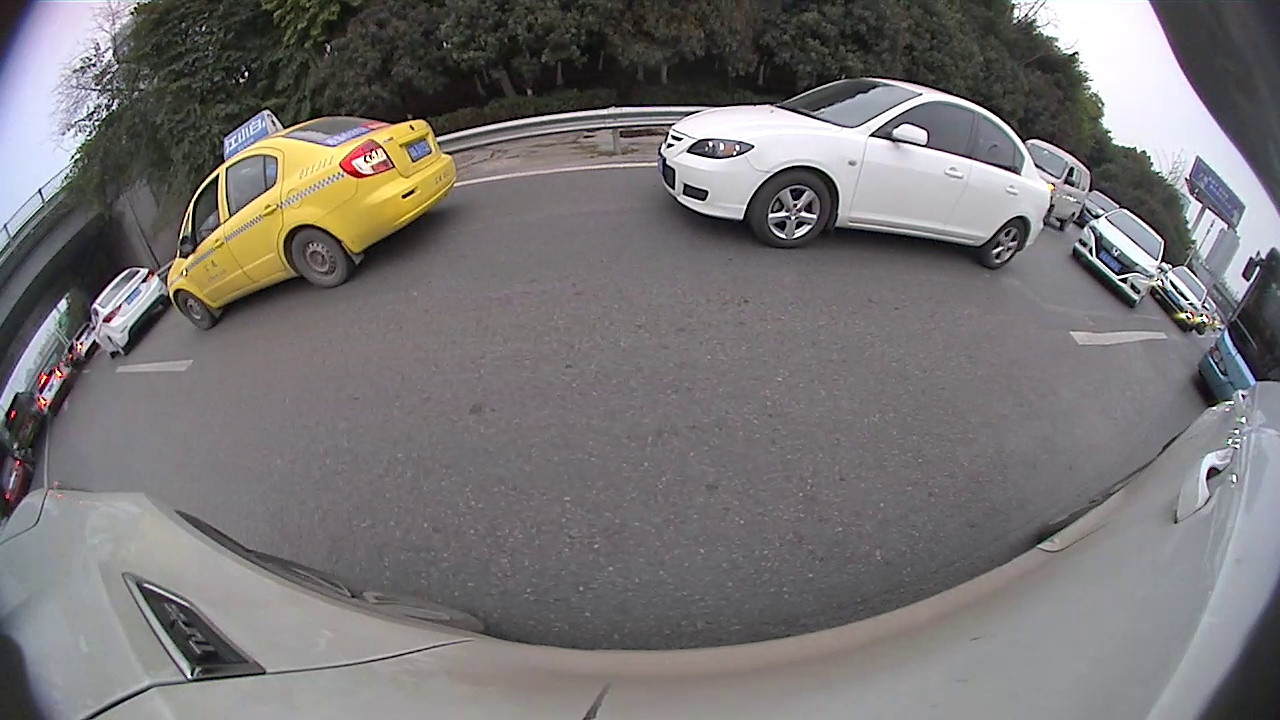car: (657, 77, 1056, 267), (164, 110, 458, 332), (1197, 250, 1275, 402), (1071, 210, 1166, 306), (90, 267, 168, 358), (1022, 137, 1092, 229), (1150, 265, 1205, 331), (30, 360, 74, 419), (66, 325, 100, 363)
front: (748, 169, 834, 252), (174, 287, 216, 331)
rear: (290, 226, 347, 289), (981, 216, 1027, 273)
